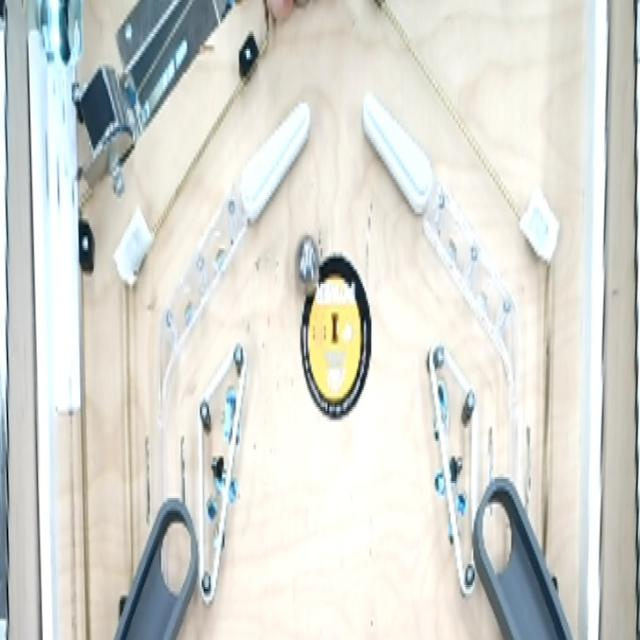ball: (294, 233, 322, 306)
flipper-left: (358, 85, 437, 230)
flipper-right: (236, 87, 313, 235)
